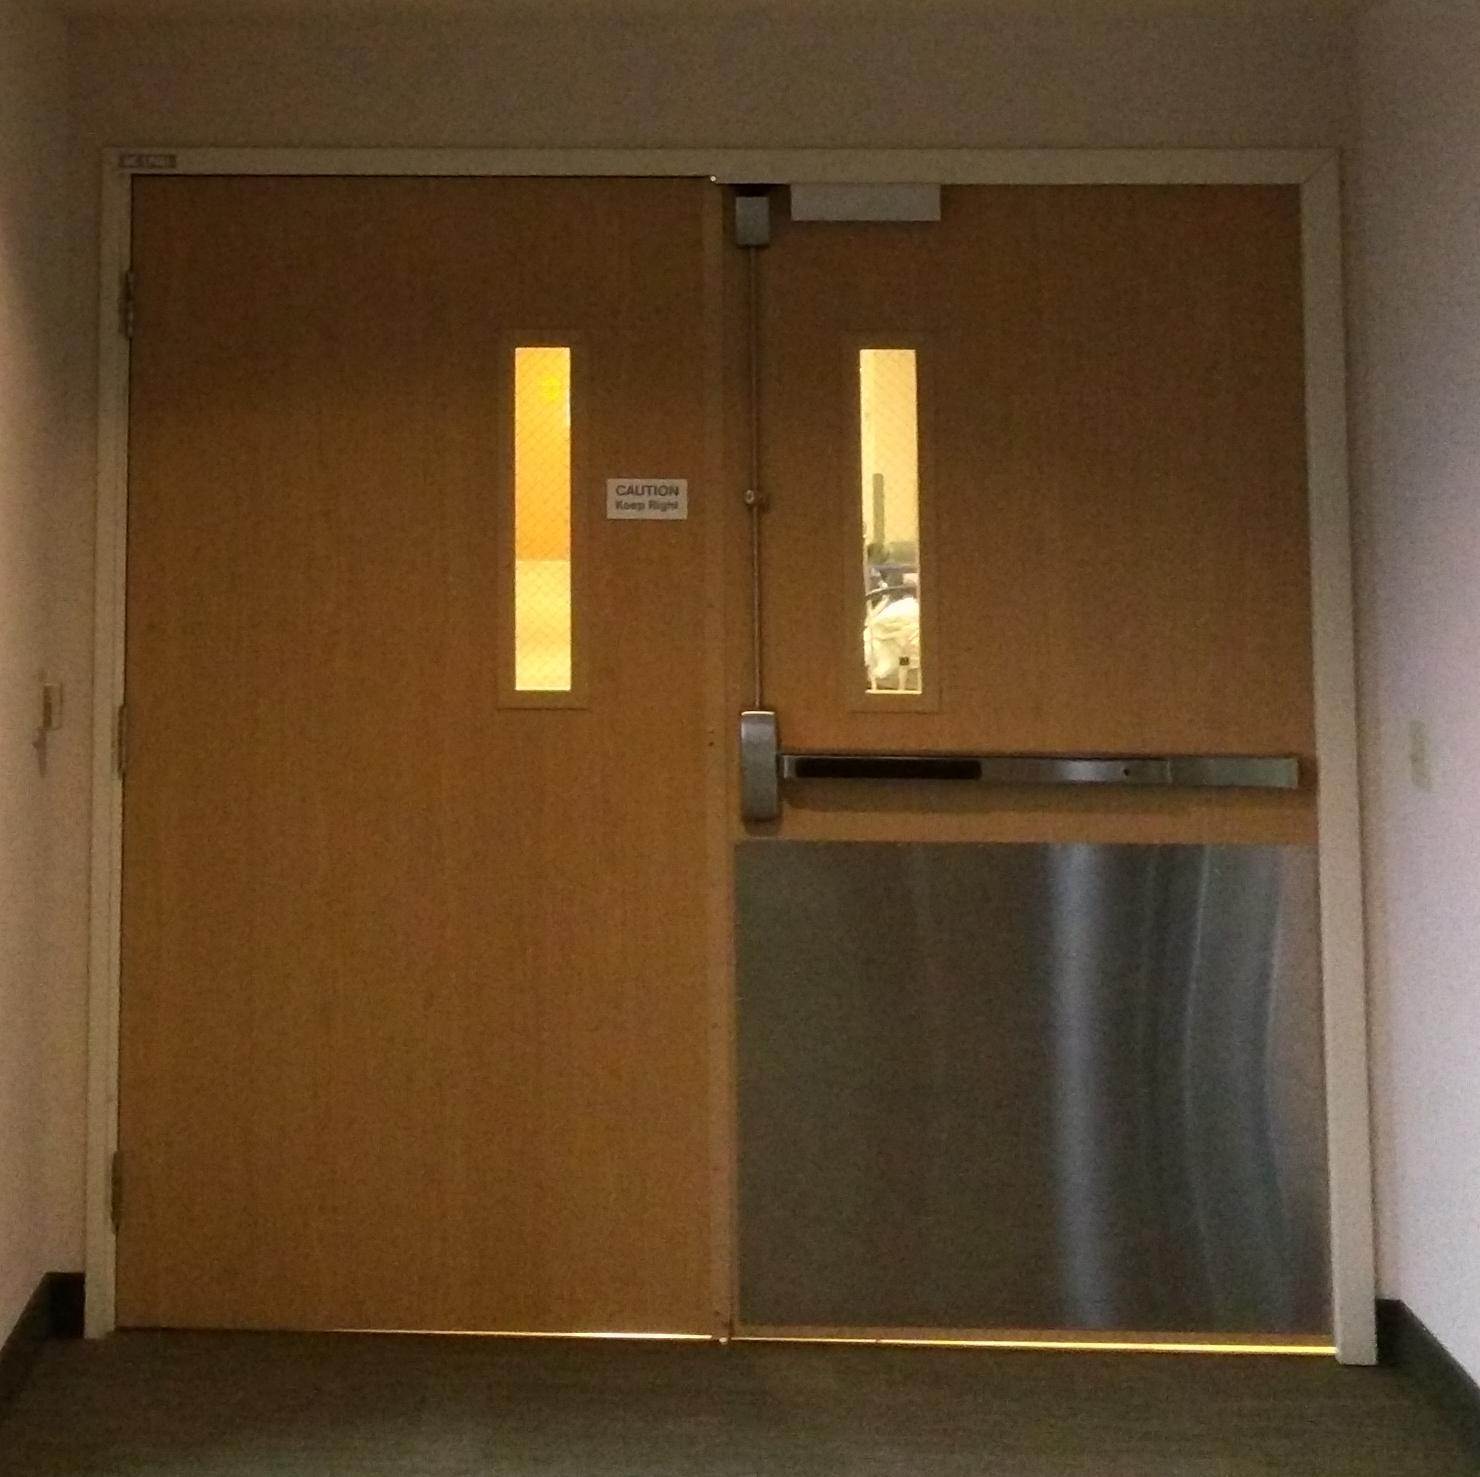door: (120, 164, 1335, 1353)
